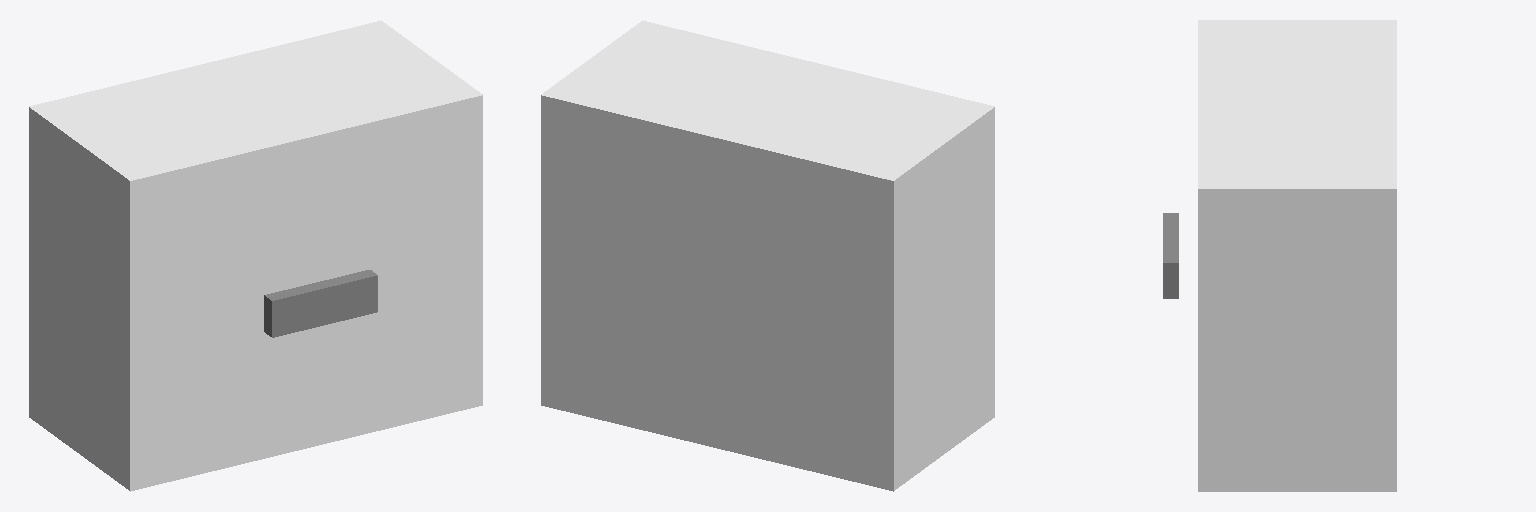
The robot description file, URDF, robot "cargo_bag":
<?xml version="1.0"?>

<!-- Rigid version of the cargo bag -->

<!-- All dimensions match the original deformable cargo bag (50 x 42 x 25 cm) -->
<!-- We connect the handle and the main compartment with a few "dummy" links/joints -->
<!--   to mimic how the deformable handle should behave -->
<!-- Three revolute joints allows us to mimic a ball joint while allowing us to set limits -->
<!--   on the motion for certain axes, and add friction -->

<!-- NOTE: to edit this file, ensure the following: -->
<!-- 1) Update the visual and collision dimensions together -->
<!-- 2) All dummy links should have the same properties (like inertia) -->
<!-- 3) If updating the mass, also update the inertia! However, in general, we should load this -->
<!--    into pybullet NOT using the USE_INERTIA_FROM_FILE flag since these values might be wrong -->

<!-- TODO: decide if there should be a prismatic link as well -->

<robot name="cargo_bag">
    <link name="main_compartment_link">
        <self_collide>false</self_collide>
        <visual name="main_compartment_visual">
            <origin rpy="0 0 0" xyz="0 0 0"/>
            <geometry>
                <box size="0.50 0.25 0.42"/>
            </geometry>
            <material name="bag_material">
                <!-- White -->
                <color rgba="1 1 1 1"/>
            </material>
        </visual>
        <!-- Split the collision body into 3 parts to allow for collision-free space around the handle -->
        <collision name="center_collision">
            <origin rpy="0 0 0" xyz="0 0.03 0"/>
            <geometry>
                <box size="0.20 0.19 0.42"/>
            </geometry>
        </collision>
        <collision name="left_collision">
            <origin rpy="0 0 0" xyz="-0.175 0 0"/>
            <geometry>
                <box size="0.15 0.25 0.42"/>
            </geometry>
        </collision>
        <collision name="right_collision">
            <origin rpy="0 0 0" xyz="0.175 0 0"/>
            <geometry>
                <box size="0.15 0.25 0.42"/>
            </geometry>
        </collision>
        <inertial>
            <origin rpy="0 0 0" xyz="0 0 0"/>
            <!-- Set the mass so that the whole bag has a total mass of 5kg -->
            <mass value="4.885"/>
            <inertia ixx="0.09725221" ixy="0" ixz="0" iyy="0.17358033" iyz="0" izz="0.12721354"/>
        </inertial>
    </link>

    <link name="handle_link">
        <self_collide>false</self_collide>
        <visual name="handle_visual">
            <origin rpy="0 0 0" xyz="0 0 0"/>
            <geometry>
                <box size="0.02 0.05 0.15"/>
            </geometry>
            <material name="handle_material">
                <!-- Gray -->
                <color rgba="0.6 0.6 0.6 1"/>
            </material>
        </visual>
        <collision name="handle_collision">
            <origin rpy="0 0 0" xyz="0 0 0"/>
            <geometry>
                <box size="0.02 0.05 0.05"/>
            </geometry>
        </collision>
        <inertial>
            <origin rpy="0 0 0" xyz="0 0 0"/>
            <mass value="0.1"/>
            <inertia ixx="2.08333e-4" ixy="0" ixz="0" iyy="1.90833e-4" iyz="0" izz="2.41667e-5"/>
        </inertial>
    </link>

    <joint name="pitch_joint" type="revolute">
        <parent link="main_compartment_link"/>
        <child link="pitch_link"/>
        <axis xyz="0 1 0" />
        <!-- Origin specifies the ball joint location -->
        <origin rpy="0 0 0" xyz="0 -0.125 0"/>
        <limit effort="1.0" lower="-1.57079" upper="1.57079" velocity="1.0"/>
    </joint>

    <link name="pitch_link">
        <!-- Small dummy mass/inertia values so this link is not ignored -->
        <inertial>
            <mass value="0.005" />
            <inertia ixx="5.0e-5" ixy="0" ixz="0" iyy="5.0e-5" iyz="0" izz="5.0e-5" />
        </inertial>
    </link>

    <joint name="yaw_joint" type="revolute">
        <parent link="pitch_link"/>
        <child link="yaw_link"/>
        <axis xyz="0 0 1" />
        <limit effort="1.0" lower="-1.57079" upper="1.57079" velocity="1.0"/>
    </joint>

    <link name="yaw_link">
        <!-- Small dummy mass/inertia values so this link is not ignored -->
        <inertial>
            <mass value="0.005" />
            <inertia ixx="5.0e-5" ixy="0" ixz="0" iyy="5.0e-5" iyz="0" izz="5.0e-5" />
        </inertial>
    </link>

    <joint name="roll_joint" type="revolute">
        <parent link="yaw_link"/>
        <child link="roll_link"/>
        <axis xyz="1 0 0" />
        <limit effort="1.0" lower="-1.57079" upper="1.57079" velocity="1.0"/>
    </joint>

    <link name="roll_link">
        <!-- Small dummy mass/inertia values so this link is not ignored -->
        <inertial>
            <mass value="0.005" />
            <inertia ixx="5.0e-5" ixy="0" ixz="0" iyy="5.0e-5" iyz="0" izz="5.0e-5" />
        </inertial>
    </link>

    <joint name="handle_joint" type="fixed">
        <!-- Origin specifies the handle's offset from ball joint location -->
        <!-- Orientation dictates how the Astrobee grasps the handle -->
        <origin rpy="1.57079 0 -1.57079" xyz="0 -0.035 0" />
        <parent link="roll_link"/>
        <child link="handle_link"/>
    </joint>

</robot>

--- Facts derived from the render (not from the file) ---
Views: 3 orthographic renders of the robot side by side, from view 1: azimuth 30°, elevation 25°; view 2: azimuth 150°, elevation 25°; view 3: azimuth 270°, elevation 25°.
Model cargo_bag with 5 links and 4 joints (3 revolute, 1 fixed), rooted at main_compartment_link, posed every joint at zero.
Visible links, largest first — view 1: main_compartment_link, handle_link; view 2: main_compartment_link; view 3: main_compartment_link, handle_link.
Boxes of the visible links, x1=… form: main_compartment_link: x1=29, y1=20, x2=482, y2=491; handle_link: x1=264, y1=270, x2=377, y2=337; main_compartment_link: x1=541, y1=20, x2=994, y2=491; main_compartment_link: x1=1198, y1=20, x2=1396, y2=491; handle_link: x1=1163, y1=213, x2=1178, y2=298.
Bounding box of the posed robot: 0.5 × 0.295 × 0.42 m (x, y, z).
Geometry: primitives only (box / cylinder / sphere), no mesh files.